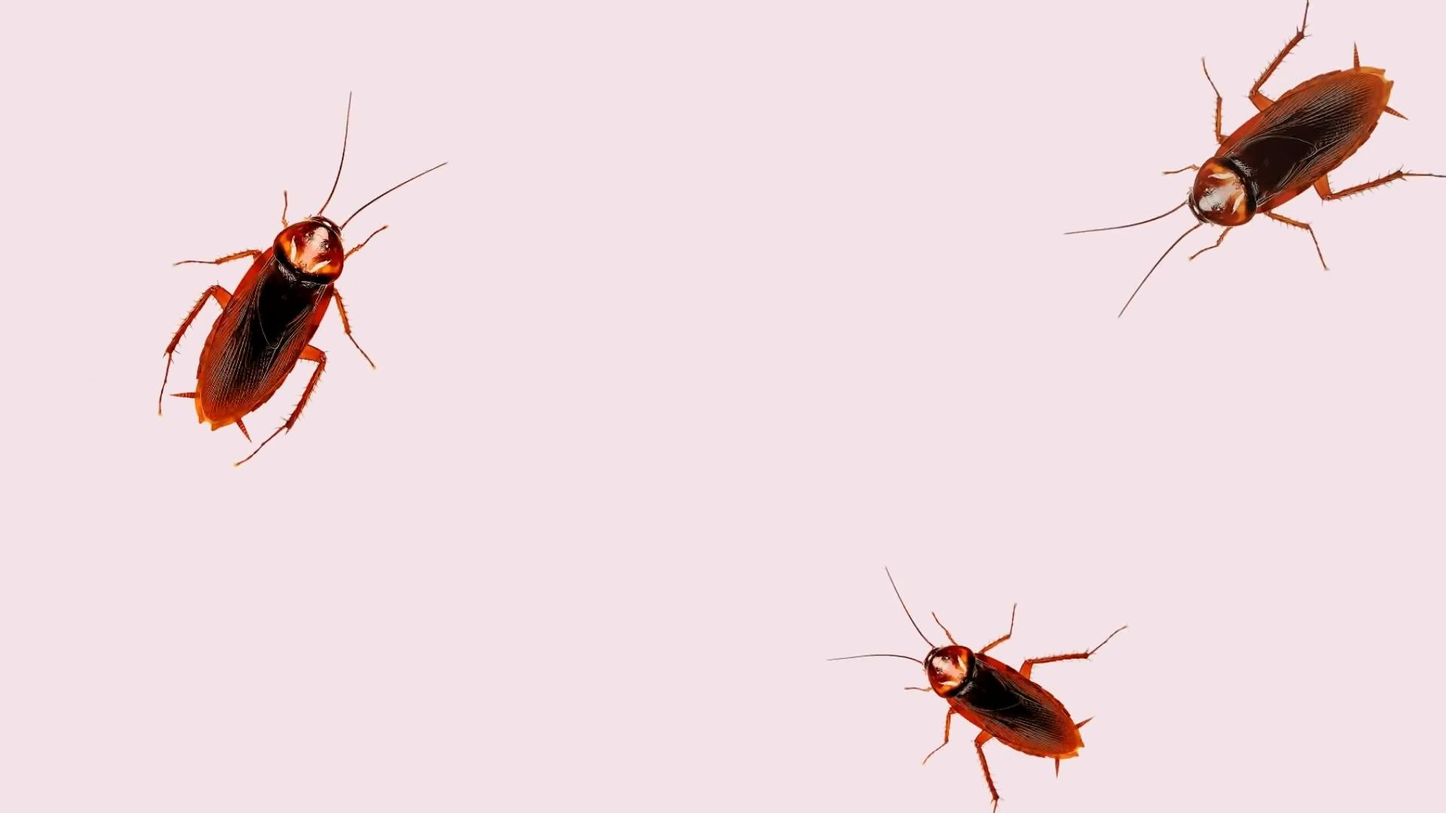cockroach: (1059, 32, 1391, 300), (151, 136, 378, 468), (870, 565, 1097, 777)
